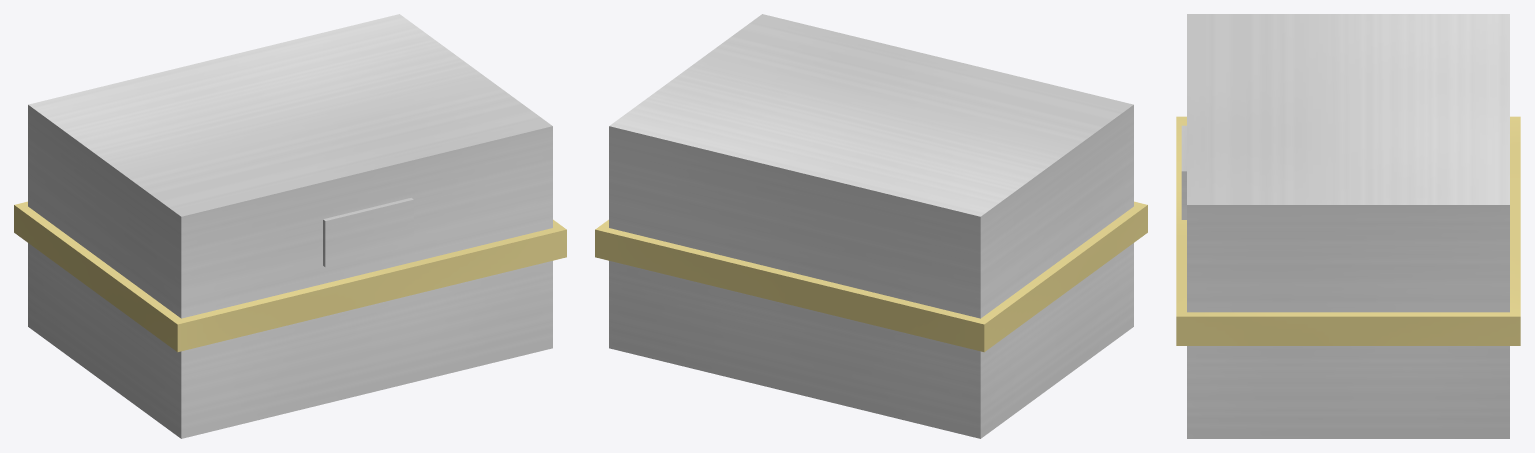
Rendered from ruin_crate_spacer.obj.
The picture shows the model from 3 angles, left to right: view 1: azimuth 30°, elevation 25°; view 2: azimuth 150°, elevation 25°; view 3: azimuth 270°, elevation 25°; orthographic projection. The views are drawn at different scales.
Visible parts, largest first — view 1: ruin_crate_spacer; view 2: ruin_crate_spacer; view 3: ruin_crate_spacer.
Boxes of the visible parts, bbox=[...] form: ruin_crate_spacer: bbox=[14, 14, 566, 438]; ruin_crate_spacer: bbox=[595, 14, 1147, 438]; ruin_crate_spacer: bbox=[1176, 14, 1520, 438].
Bounding box in the file's own units: 0.88 × 0.48 × 0.64.
